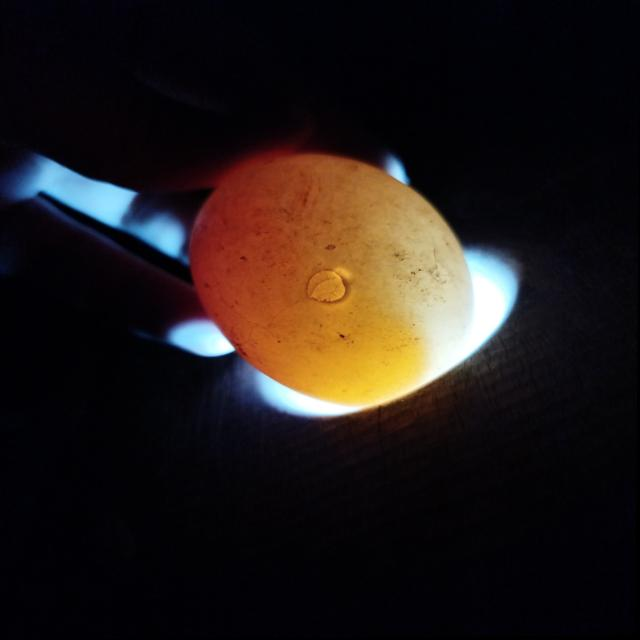Rachadura: (307, 271, 346, 303), (432, 250, 450, 283)
